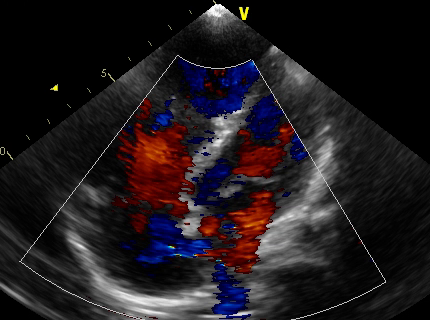TR: (122, 188, 189, 243)
